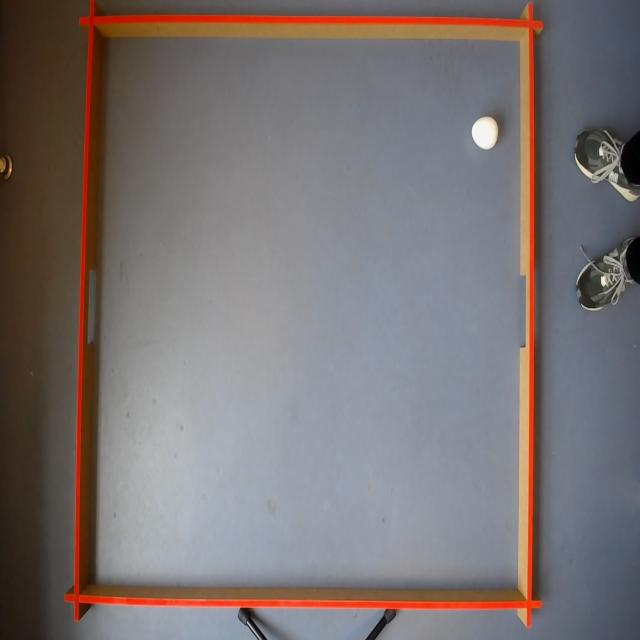egg: (471, 114, 499, 152)
